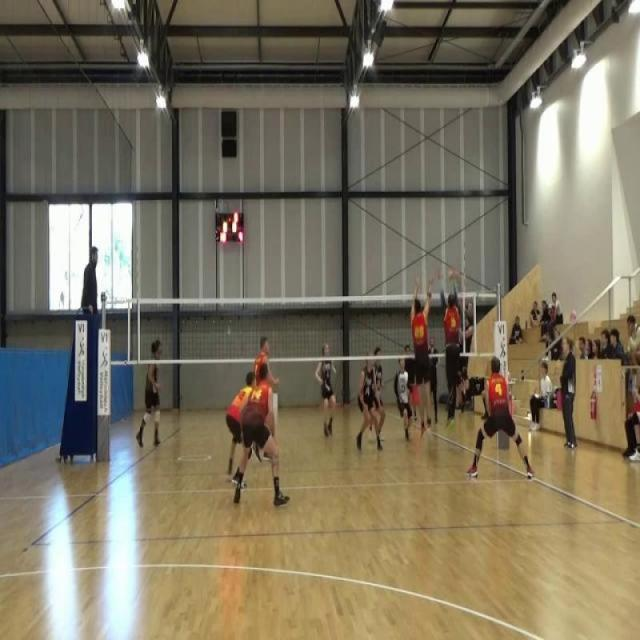volleyball: (448, 267, 460, 282)
